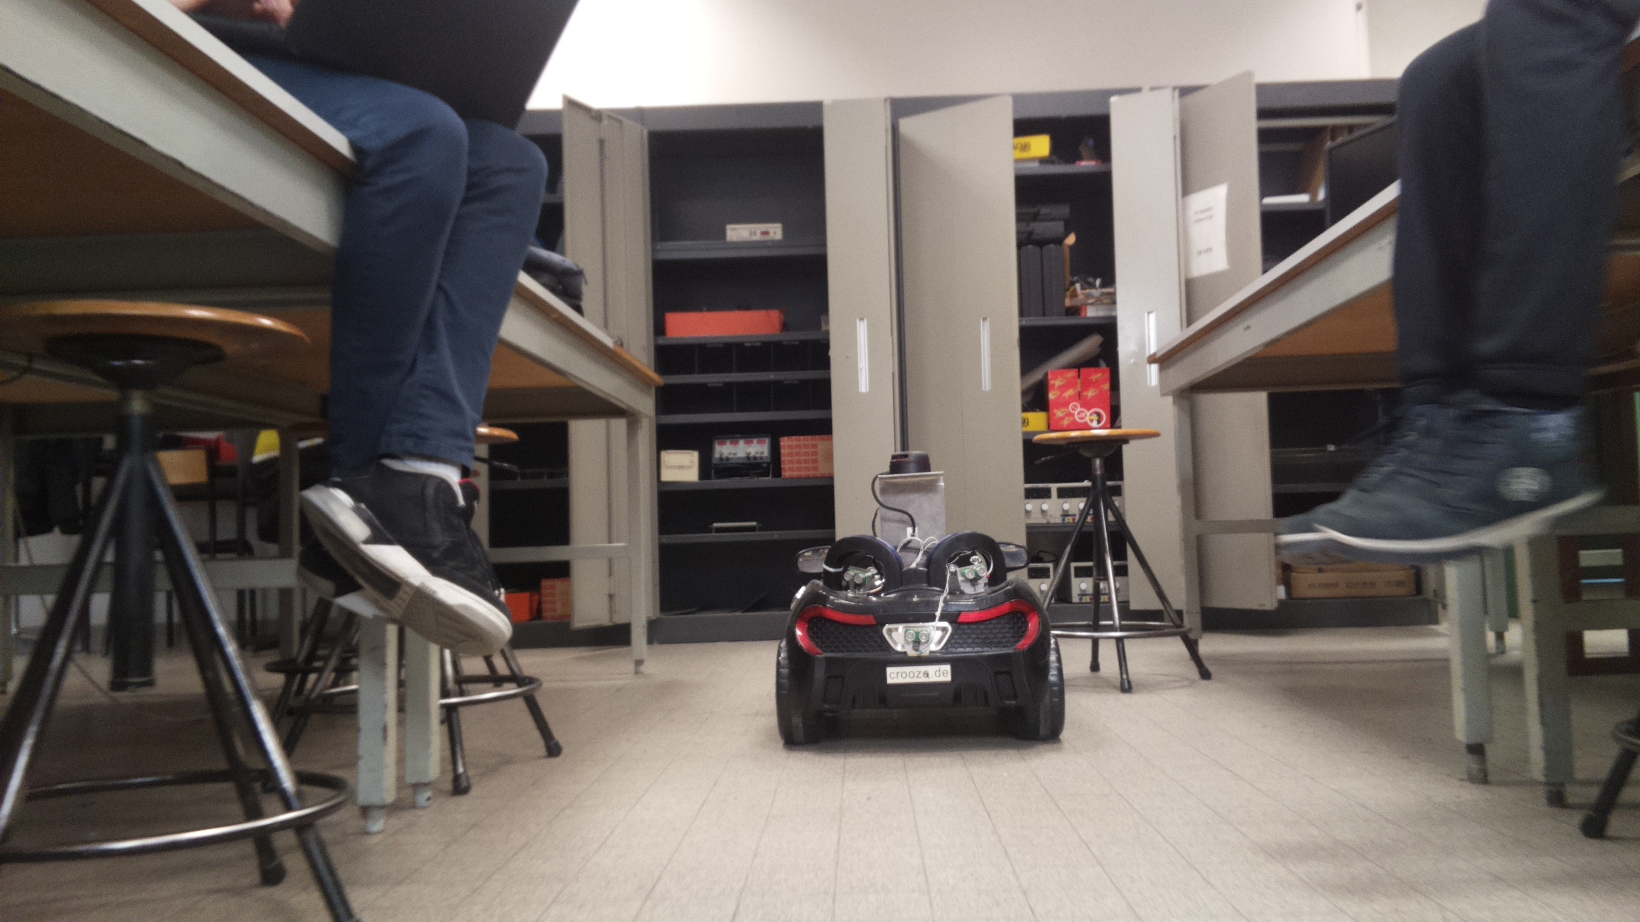big: (776, 529, 1067, 754)
